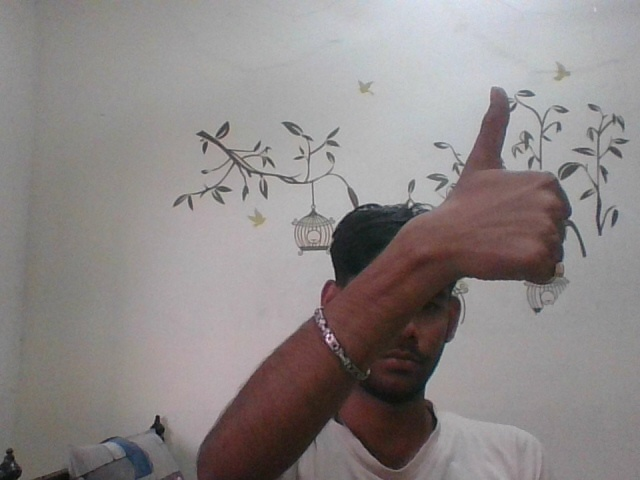Yes: (428, 84, 578, 308)
